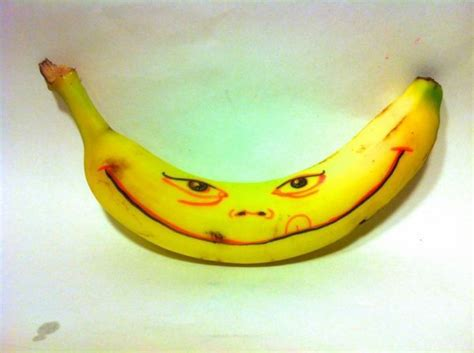banana: (73, 71, 453, 271)
